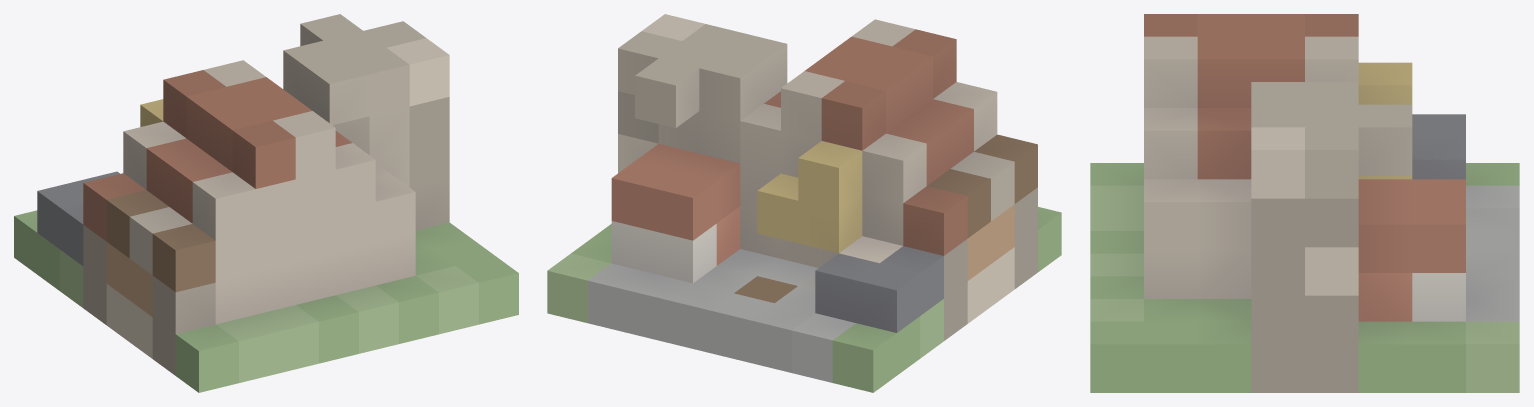
Rendered from city_guard.l1.lite.glb.
3 renders of one model, left to right at view 1: azimuth 30°, elevation 25°; view 2: azimuth 150°, elevation 25°; view 3: azimuth 270°, elevation 25°, orthographic. The views are drawn at different scales.
Visible parts, largest first — view 1: city_guard; view 2: city_guard; view 3: city_guard.
Boxes of the visible parts, left/top/right/bottom form: city_guard: left=14, top=14, right=518, bottom=392; city_guard: left=547, top=14, right=1061, bottom=392; city_guard: left=1090, top=14, right=1519, bottom=392.
Bounding box in the file's own units: 4 × 2.5 × 4.
